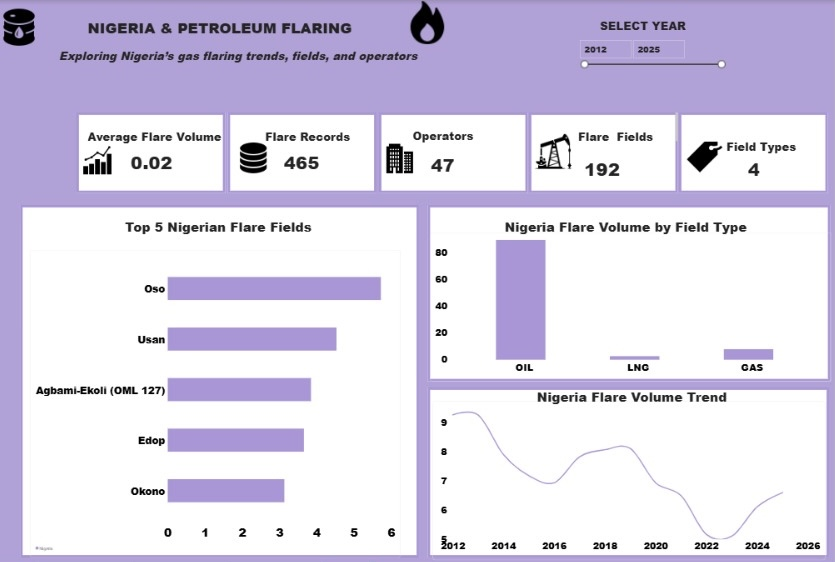

The page's visual inventory and layout, read from the dashboard file:
{"tool":"powerbi","page":{"name":"Page 2","canvas":[2900,1900],"ordinal":1},"visuals":[{"type":"shape","box":[163.7,688.4,1339,1183.7],"z":0},{"type":"shape","box":[1532.1,688.4,1351.6,591.8],"z":1000},{"type":"shape","box":[353,377.8,499.5,270.4],"z":2000},{"type":"shape","box":[860,377.8,499.5,270.4],"z":3000},{"type":"shape","box":[1367,377.8,499.5,270.4],"z":4000},{"type":"shape","box":[1870.3,377.8,499.5,270.4],"z":5000},{"type":"shape","box":[2377.3,377.8,499.5,270.4],"z":6000},{"type":"shape","box":[1532.1,1301.2,1347.4,570.9],"z":7000},{"type":"lineChart","fields":{"Category":["Table2_1.Year"],"Y":["Sum(Table2_1.Flare Volume)"],"Series":["Table2_1.Country"]},"box":[1548.9,1347.4,1318,533.1],"z":8000},{"type":"clusteredColumnChart","fields":{"Y":["Sum(Table2_1.Flare Volume)"],"Category":["Table2_1.Field Type"],"Series":["Table2_1.Country"]},"box":[1540.5,780.7,1347.4,499.5],"z":9000},{"type":"barChart","fields":{"Category":["Table2_1.Field name"],"Y":["Sum(Table2_1.Flare Volume)"],"Series":["Table2_1.Country"]},"box":[197.3,839.5,1242.4,1032.6],"z":10000},{"type":"kpi","fields":{"Indicator":["Table2_1.Average Flare Volume"],"TrendLine":["Table2_1.Country"]},"box":[482.7,465.9,244,158.4],"z":11000},{"type":"kpi","fields":{"TrendLine":["Table2_1.Country"],"Indicator":["Count(Table2_1.Flare id)"]},"box":[986.4,465.9,244,158.4],"z":12000},{"type":"kpi","fields":{"TrendLine":["Table2_1.Country"],"Indicator":["Count(Table2_1.Operator)"]},"box":[1460.7,512.1,243.5,83.9],"z":13000},{"type":"kpi","fields":{"TrendLine":["Table2_1.Country"],"Indicator":["Count(Table2_1.Field name)"]},"box":[1989.6,486.9,256,159.5],"z":14000},{"type":"kpi","fields":{"TrendLine":["Table2_1.Country"],"Indicator":["Count(Table2_1.Field Type)"]},"box":[2417.7,512.1,419.7,113.3],"z":15000},{"type":"textbox","box":[389.6,59.9,1160.3,94.2],"z":16000},{"type":"textbox","box":[295.4,158.4,1323,89.9],"z":17000},{"type":"slicer","fields":{"Values":["Table2_1.Year"]},"box":[2035.8,130.1,499.5,151.1],"z":18000},{"type":"textbox","box":[2035.8,58.8,499.5,71.4],"z":19000},{"type":"textbox","box":[390.4,432.3,470.1,54.6],"z":20000},{"type":"textbox","box":[986.4,377.8,344.2,167.9],"z":21000},{"type":"textbox","box":[1637,1301.2,1200.5,113.3],"z":22000},{"type":"textbox","box":[1590.8,730.4,1284.4,100.7],"z":23000},{"type":"textbox","box":[197.3,730.4,1242.4,214.1],"z":24000},{"type":"textbox","box":[1481.7,411.3,310.6,134.3],"z":25000},{"type":"textbox","box":[2035.8,377.8,335.8,100.7],"z":26000},{"type":"textbox","box":[2535.3,411.3,340,184.7],"z":27000},{"type":"image","box":[1872.1,444.9,163.7,121.7],"z":28000},{"type":"image","box":[359.6,488.1,124.2,98.5],"z":29000},{"type":"image","box":[834.9,479.5,222.6,107],"z":30000},{"type":"image","box":[1327.3,479.5,222.6,107],"z":31000},{"type":"image","box":[2389.1,462.4,145.6,124.2],"z":32000},{"type":"image","box":[42.8,30,235.5,124.2],"z":33000},{"type":"image","box":[1361.5,0,341,151],"z":34000}]}

Visuals, with their boxes in screenshot pixels (x1, y1, x2, y2), scaled from the page's 2900x1900 canvas onto the 835x562 screenshot:
shape: box(47, 204, 433, 554)
shape: box(441, 204, 830, 379)
shape: box(102, 112, 245, 192)
shape: box(248, 112, 391, 192)
shape: box(394, 112, 537, 192)
shape: box(539, 112, 682, 192)
shape: box(684, 112, 828, 192)
shape: box(441, 385, 829, 554)
lineChart - Table2_1.Year x Sum(Table2_1.Flare Volume): box(446, 399, 825, 556)
clusteredColumnChart - Sum(Table2_1.Flare Volume) x Table2_1.Field Type: box(444, 231, 832, 379)
barChart - Table2_1.Field name x Sum(Table2_1.Flare Volume): box(57, 248, 415, 554)
kpi - Table2_1.Average Flare Volume x Table2_1.Country: box(139, 138, 209, 185)
kpi - Table2_1.Country x Count(Table2_1.Flare id): box(284, 138, 354, 185)
kpi - Table2_1.Country x Count(Table2_1.Operator): box(421, 151, 491, 176)
kpi - Table2_1.Country x Count(Table2_1.Field name): box(573, 144, 647, 191)
kpi - Table2_1.Country x Count(Table2_1.Field Type): box(696, 151, 817, 185)
textbox: box(112, 18, 446, 46)
textbox: box(85, 47, 466, 73)
slicer - Table2_1.Year: box(586, 38, 730, 83)
textbox: box(586, 17, 730, 39)
textbox: box(112, 128, 248, 144)
textbox: box(284, 112, 383, 161)
textbox: box(471, 385, 817, 418)
textbox: box(458, 216, 828, 246)
textbox: box(57, 216, 415, 279)
textbox: box(427, 122, 516, 161)
textbox: box(586, 112, 683, 142)
textbox: box(730, 122, 828, 176)
image: box(539, 132, 586, 168)
image: box(104, 144, 139, 174)
image: box(240, 142, 304, 173)
image: box(382, 142, 446, 173)
image: box(688, 137, 730, 174)
image: box(12, 9, 80, 46)
image: box(392, 0, 490, 45)
